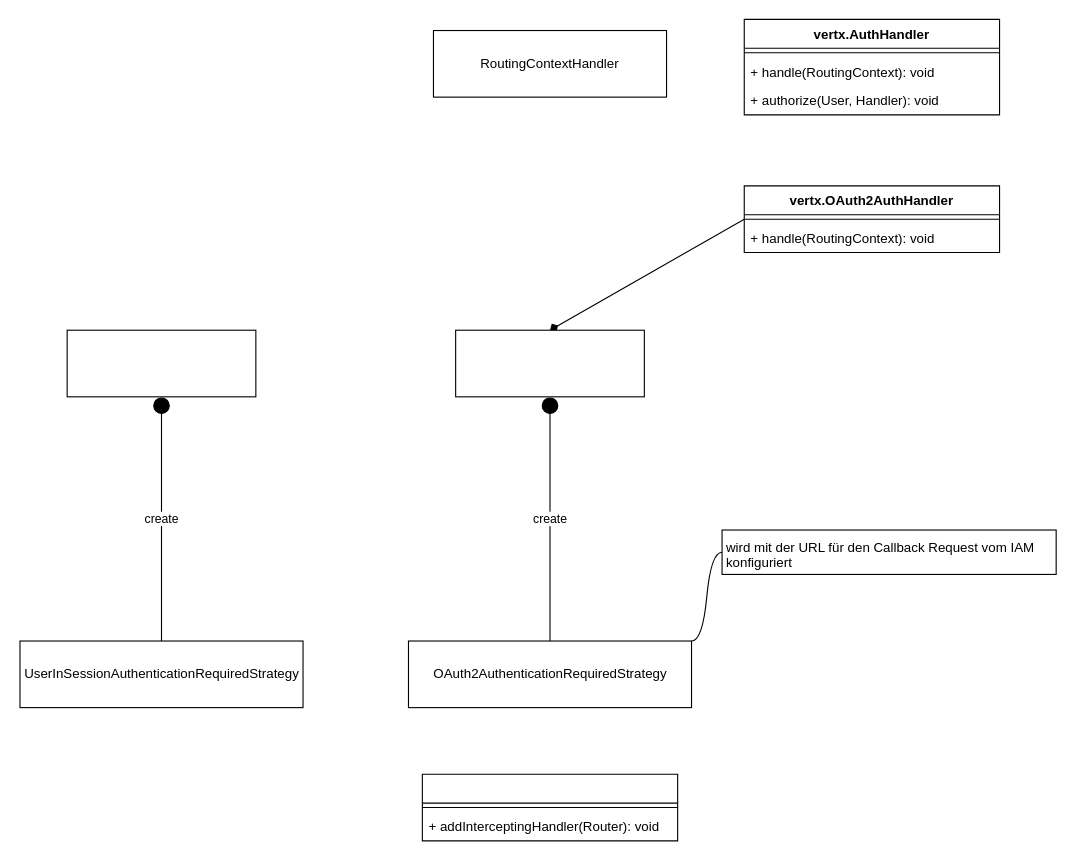
This 1076x864 diagram has some shape labels left out. Each missing label, with the box of its shape:
AjaxAuthenticationHandler: (66, 329, 256, 397)
AuthenticationRequiredStrategy: (421, 773, 678, 841)
OAuthToAuthHandler: (455, 329, 644, 397)
